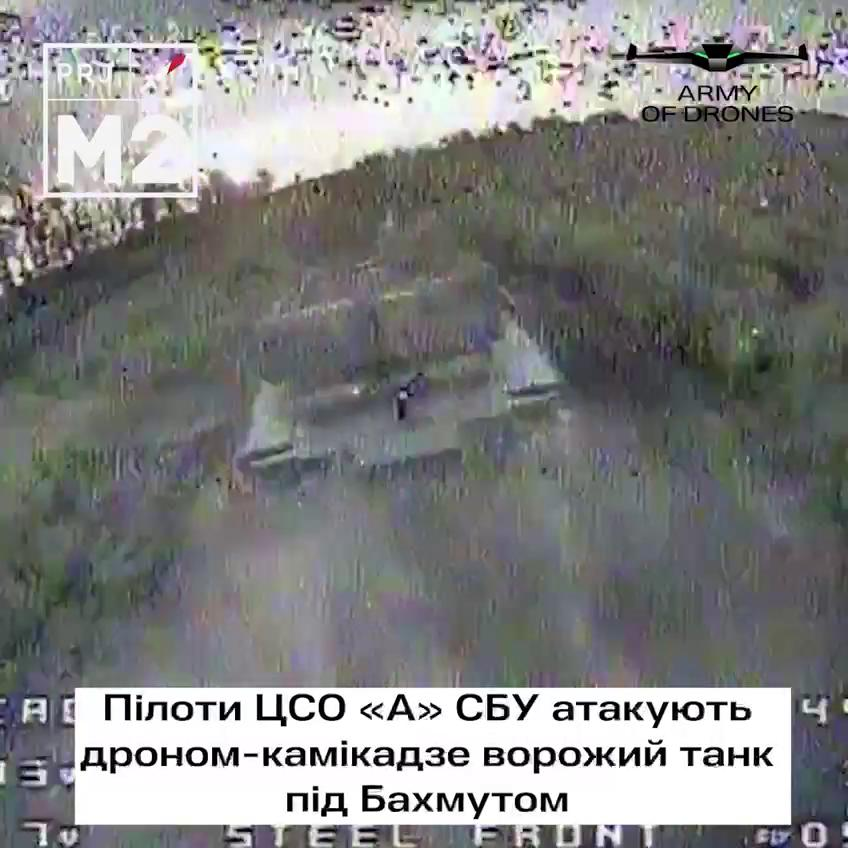tank: (230, 206, 578, 542)
